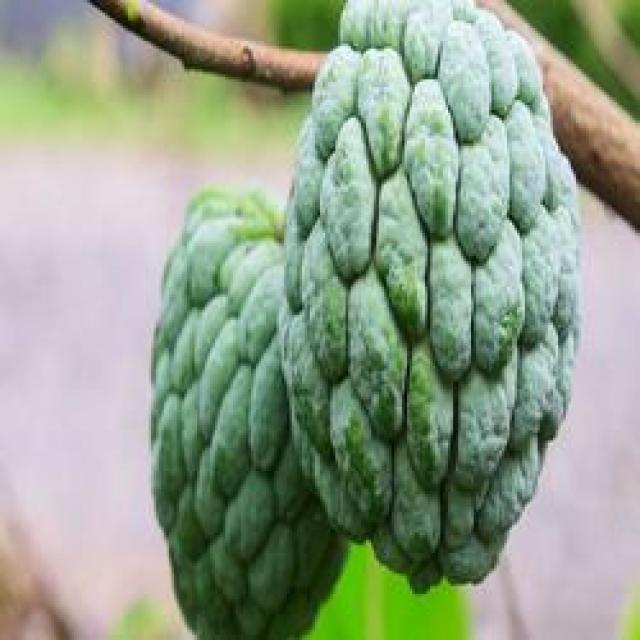apple: (279, 2, 584, 592), (141, 176, 356, 640)
